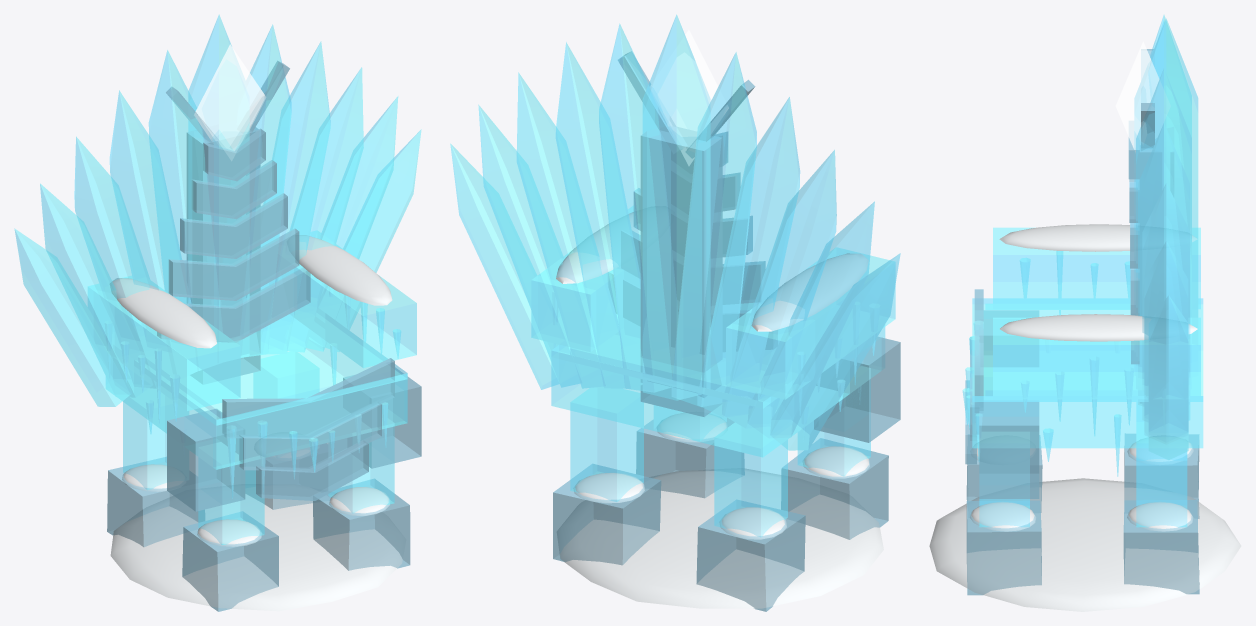
The model's file is FrostbiteIceThrone.glb.
3 renders of one model, left to right at view 1: azimuth 30°, elevation 25°; view 2: azimuth 150°, elevation 25°; view 3: azimuth 270°, elevation 25°, orthographic. The views are drawn at different scales.
Parts seen in each view (by area): view 1: Snow_Base_Mound, Seat, Shard_Center_0, Backrest_Spine, Shard_Inner_L1, Shard_Mid_R2, Shard_Mid_L2, Armrest_L, Shard_Wing_L4, Shard_Outer_R3, Shard_Inner_R1, Shard_Outer_L3 (+30 smaller); view 2: Snow_Base_Mound, Backrest_Spine, Shard_Center_0, Shard_Inner_L1, Seat, Shard_Mid_R2, Shard_Inner_R1, Shard_Mid_L2, Shard_Outer_R3, Shard_Outer_L3, Shard_Wing_L4, Shard_Wing_R4 (+25 smaller); view 3: Snow_Base_Mound, Seat, Armrest_R, Armrest_L, Shard_Wing_R4, Shard_Center_0, Shard_Flank_R5, Armrest_Pillar_R, FootBlock_FR, FootBlock_BR, Shard_Mid_R2, Shard_Outer_R3 (+24 smaller).
Boxes of the visible parts, <box> form: Snow_Base_Mound: <box>110,485,405,611</box>; Seat: <box>106,313,407,469</box>; Shard_Center_0: <box>188,14,249,357</box>; Backrest_Spine: <box>186,127,260,383</box>; Shard_Inner_L1: <box>148,50,219,327</box>; Shard_Mid_R2: <box>261,41,330,353</box>; Shard_Mid_L2: <box>109,90,190,347</box>; Armrest_L: <box>88,276,240,410</box>; Shard_Wing_L4: <box>40,183,151,397</box>; Shard_Outer_R3: <box>269,67,363,352</box>; Shard_Inner_R1: <box>243,24,291,356</box>; Shard_Outer_L3: <box>74,136,166,388</box>; Snow_Base_Mound: <box>557,468,883,608</box>; Backrest_Spine: <box>640,125,722,416</box>; Shard_Center_0: <box>642,14,710,400</box>; Shard_Inner_L1: <box>672,52,756,406</box>; Seat: <box>551,287,885,457</box>; Shard_Mid_R2: <box>555,42,642,388</box>; Shard_Inner_R1: <box>599,23,670,390</box>; Shard_Mid_L2: <box>697,97,800,417</box>; Shard_Outer_R3: <box>516,72,623,388</box>; Shard_Outer_L3: <box>722,150,836,428</box>; Shard_Wing_L4: <box>748,201,874,438</box>; Shard_Wing_R4: <box>478,104,600,387</box>; Snow_Base_Mound: <box>929,478,1241,611</box>; Seat: <box>972,298,1203,448</box>; Armrest_R: <box>993,317,1200,399</box>; Armrest_L: <box>993,227,1200,309</box>; Shard_Wing_R4: <box>1144,241,1188,444</box>; Shard_Center_0: <box>1134,18,1198,345</box>; Shard_Flank_R5: <box>1148,295,1188,459</box>; Armrest_Pillar_R: <box>979,401,1039,498</box>; FootBlock_FR: <box>966,500,1041,595</box>; FootBlock_BR: <box>1123,500,1199,594</box>; Shard_Mid_R2: <box>1138,123,1189,405</box>; Shard_Outer_R3: <box>1142,183,1190,420</box>.
Size of the model in its own units: 2.13 by 2.52 by 1.35.
